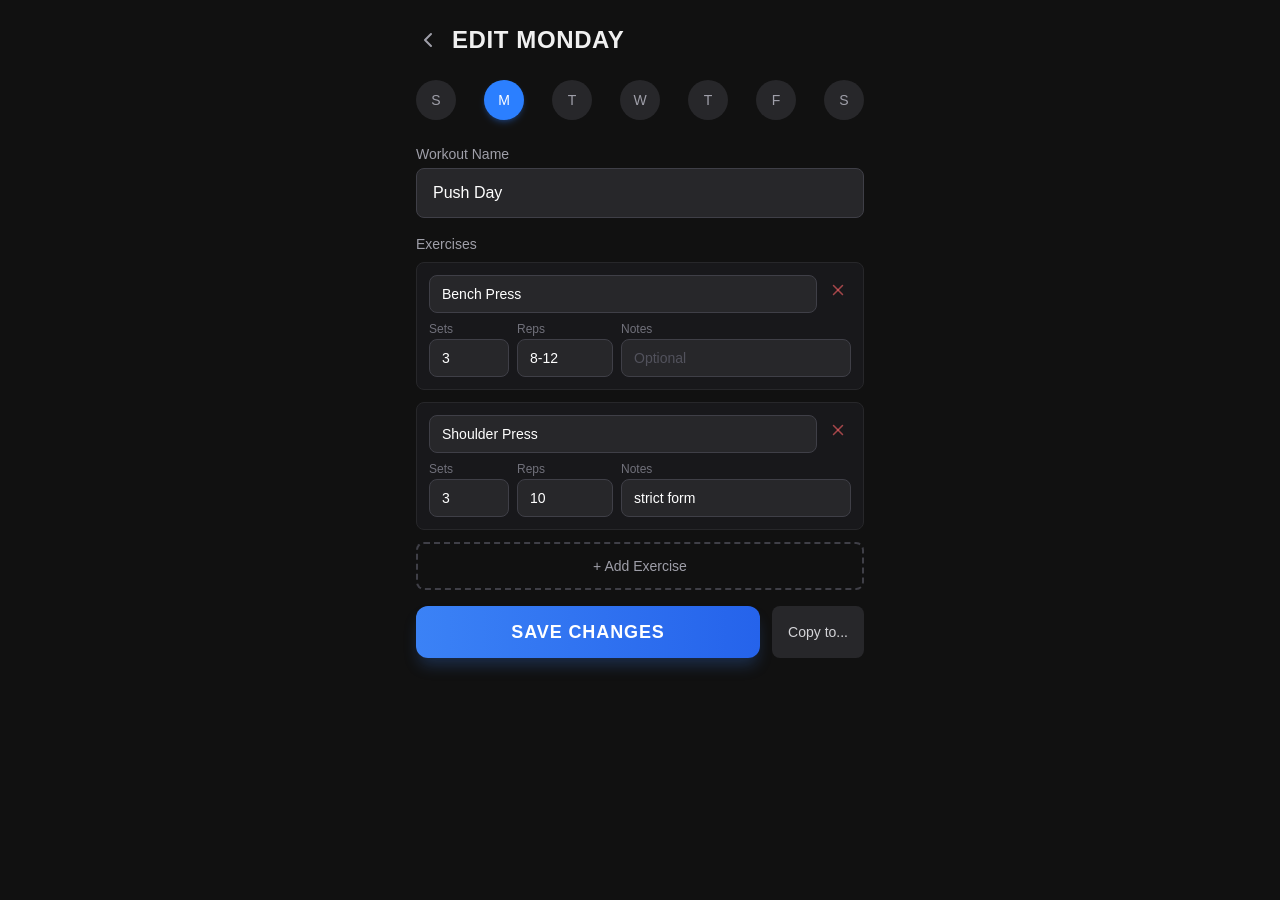
Test case: ScheduleEditPage - Copy to Day › opens the copy modal when clicking Copy to button
Click the button "Copy to...".
click(818, 632)  # box [772,606,864,658]
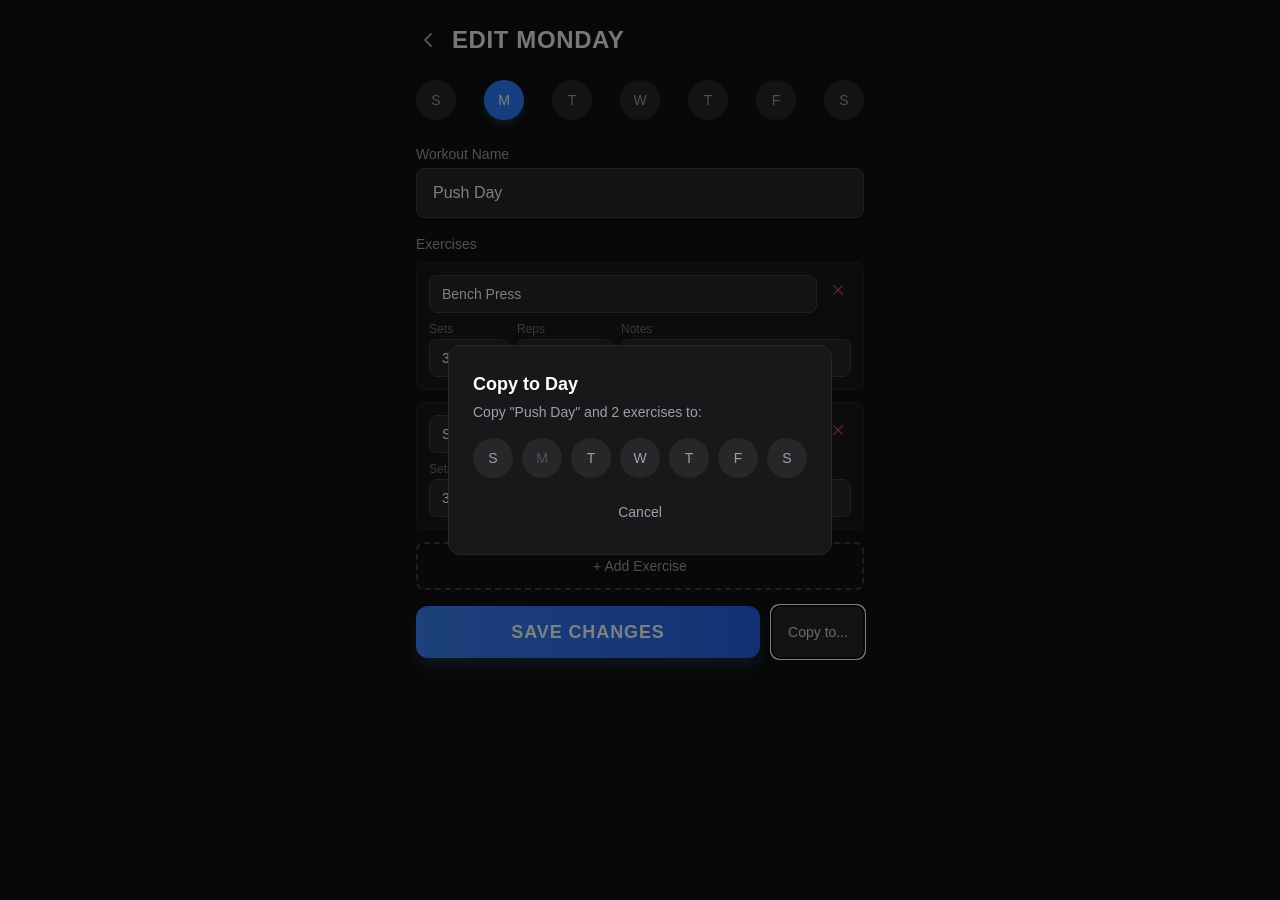
Now the heading "Copy to Day" is shown, box [473,374,578,394]
Now the text "Copy \"Push Day\" and 2 exercises to:" is shown, box [473,404,702,420]
